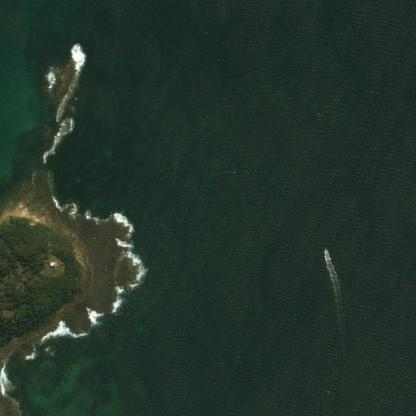ship: (324, 247, 326, 253)
